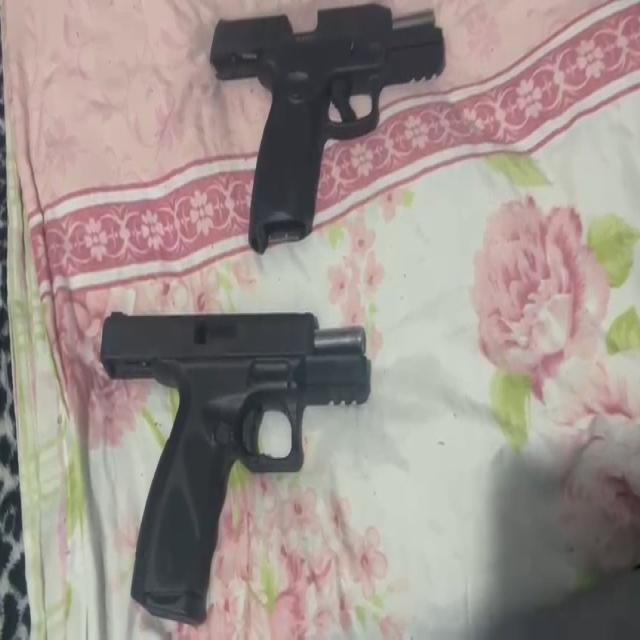gun: (98, 303, 374, 629), (209, 0, 448, 261)
